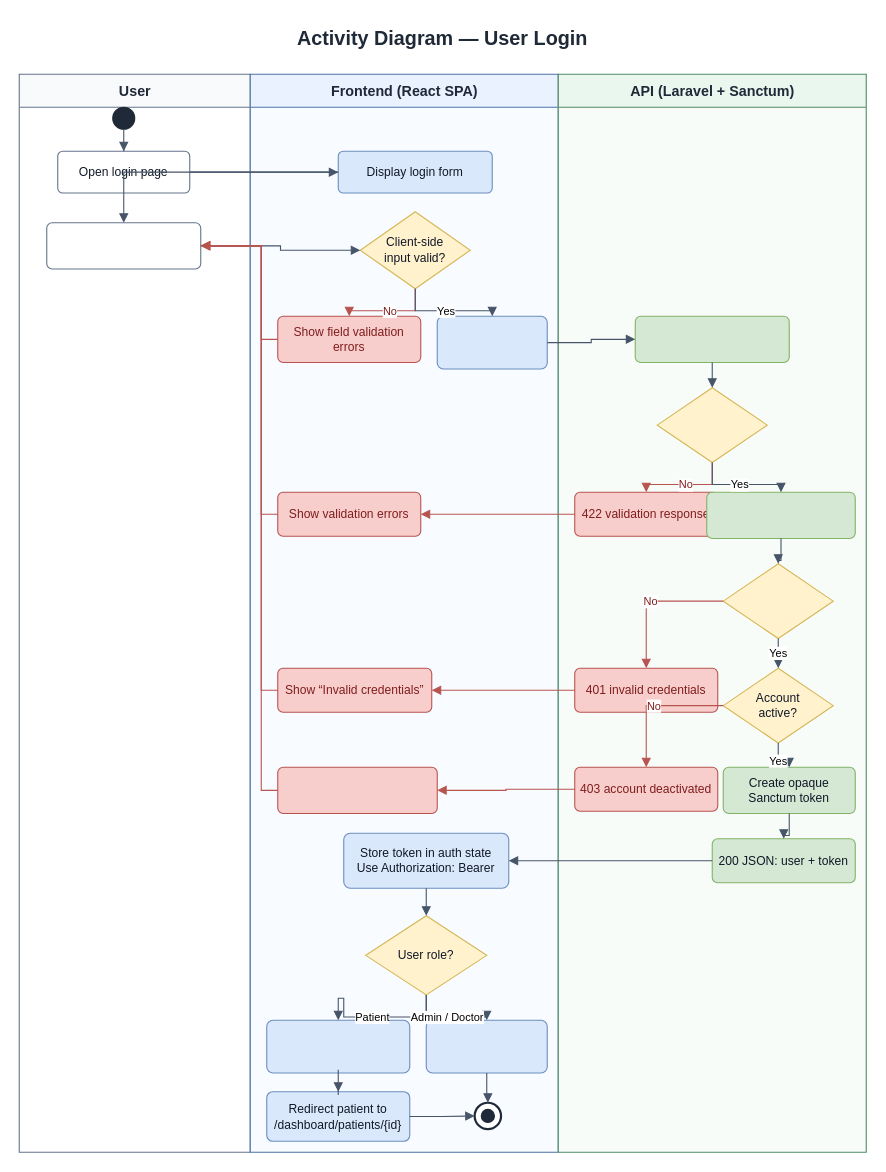
The diagram is 886 pixels wide and 1172 high, and some of its shapes have lost their labels. The centre of each missing label's shape, as x and y in pixels:
"Credentials valid?" belongs at [777,601].
"Enter email and password" belongs at [123,245].
"Find user and verify password" belongs at [780,514].
"GET /api/patients/me with Bearer token" belongs at [338,1046].
"POST /api/login { email, password }" belongs at [491,342].
"Redirect admin / doctor to /dashboard/home" belongs at [486,1046].
"Request valid?" belongs at [711,425].
"Show “Account is deactivated”" belongs at [357,789].
"Validate login request" belongs at [711,338].
